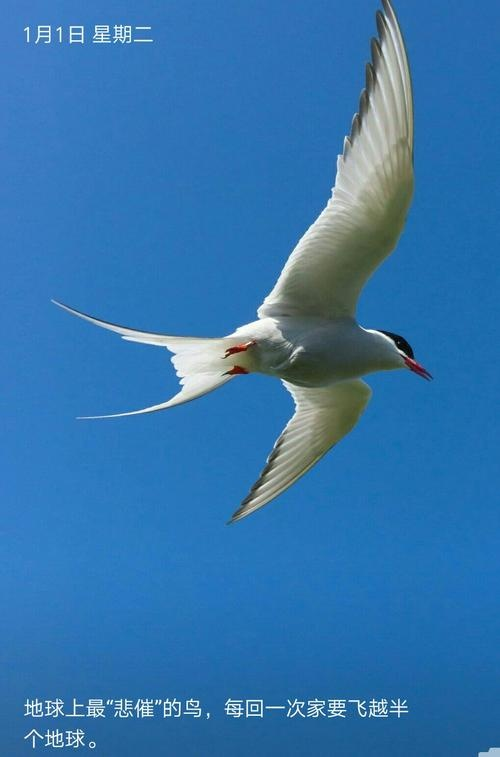bird: (47, 1, 436, 529)
